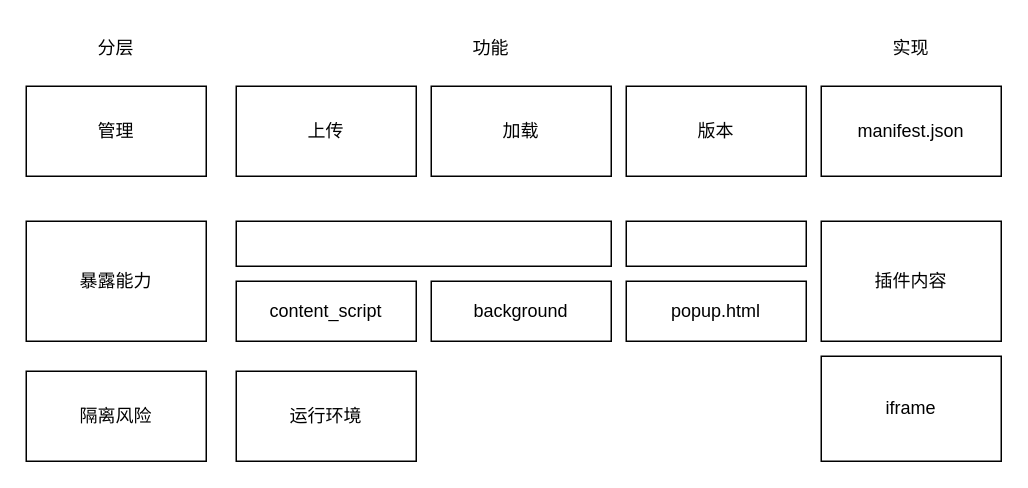
Some shapes in this 1028 by 488 pixel diagram are drawn without their labels. Each missing label, with the centre of its shape:
"API划分" belongs at point (423, 243).
"UI" belongs at point (715, 243).
